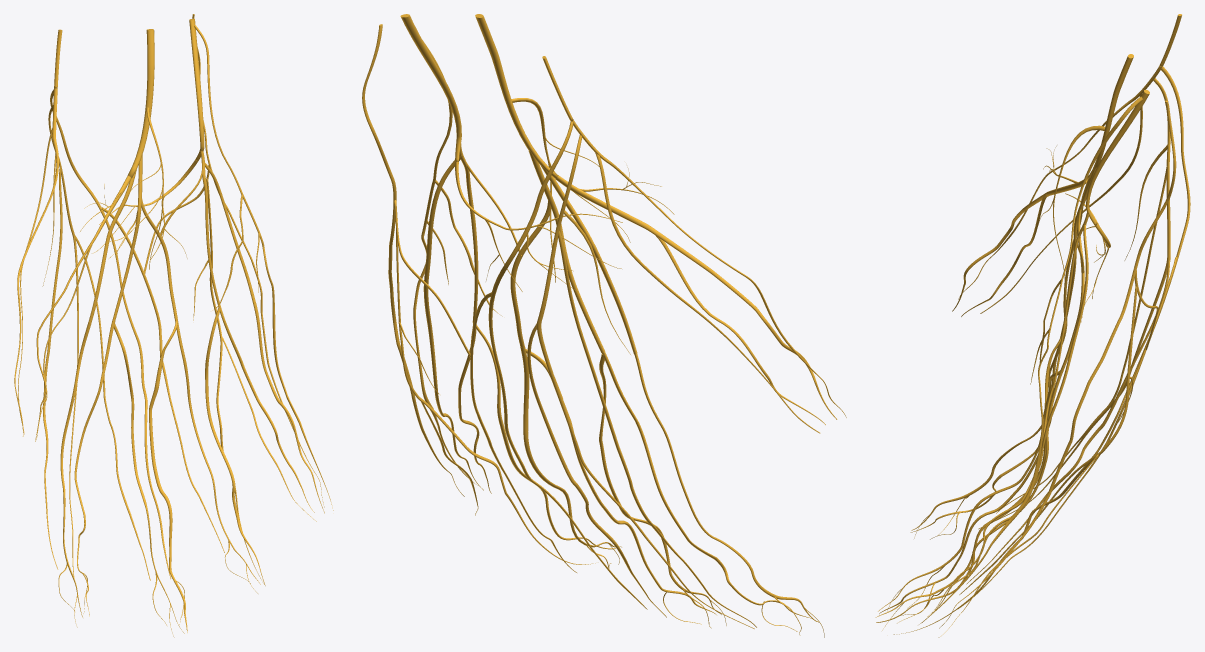
Rendered from open3d-hand-nervous-01.glb.
3 renders of one model, left to right at view 1: azimuth 30°, elevation 25°; view 2: azimuth 150°, elevation 25°; view 3: azimuth 270°, elevation 25°, orthographic. The views are drawn at different scales.
Parts seen in each view (by area): view 1: O3D_2ed0fc71fc868b, O3D_aa27462bf26062, O3D_c394e34a977adf, O3D_70b23e2b429480, O3D_ca6d144fafa555, O3D_b7cd241478a67c, O3D_2bdaa99e8c452e, O3D_2a4f92ddead7f3, O3D_6574d303783f71, O3D_38e1d062acb1e0, O3D_ca359bd1ca272e, O3D_90596265d52085; view 2: O3D_2ed0fc71fc868b, O3D_aa27462bf26062, O3D_c394e34a977adf, O3D_ca6d144fafa555, O3D_70b23e2b429480, O3D_6574d303783f71, O3D_b7cd241478a67c, O3D_2bdaa99e8c452e, O3D_2a4f92ddead7f3, O3D_38e1d062acb1e0, O3D_ca359bd1ca272e; view 3: O3D_2ed0fc71fc868b, O3D_aa27462bf26062, O3D_c394e34a977adf, O3D_b7cd241478a67c, O3D_70b23e2b429480, O3D_2bdaa99e8c452e, O3D_ca6d144fafa555, O3D_6574d303783f71, O3D_38e1d062acb1e0, O3D_2a4f92ddead7f3, O3D_90596265d52085.
Boxes of the visible parts, x1=… form: O3D_2ed0fc71fc868b: x1=14, y1=88, x2=224, y2=580; O3D_aa27462bf26062: x1=58, y1=318, x2=260, y2=637; O3D_c394e34a977adf: x1=144, y1=14, x2=324, y2=584; O3D_70b23e2b429480: x1=205, y1=305, x2=324, y2=585; O3D_ca6d144fafa555: x1=88, y1=154, x2=177, y2=322; O3D_b7cd241478a67c: x1=194, y1=25, x2=333, y2=510; O3D_2bdaa99e8c452e: x1=200, y1=151, x2=256, y2=307; O3D_2a4f92ddead7f3: x1=127, y1=29, x2=154, y2=177; O3D_6574d303783f71: x1=35, y1=238, x2=94, y2=441; O3D_38e1d062acb1e0: x1=189, y1=18, x2=204, y2=161; O3D_ca359bd1ca272e: x1=92, y1=160, x2=197, y2=259; O3D_90596265d52085: x1=116, y1=107, x2=163, y2=269; O3D_2ed0fc71fc868b: x1=470, y1=119, x2=846, y2=628; O3D_aa27462bf26062: x1=520, y1=346, x2=824, y2=637; O3D_c394e34a977adf: x1=362, y1=24, x2=595, y2=564; O3D_ca6d144fafa555: x1=510, y1=150, x2=637, y2=354; O3D_70b23e2b429480: x1=427, y1=321, x2=615, y2=549; O3D_6574d303783f71: x1=648, y1=226, x2=837, y2=424; O3D_b7cd241478a67c: x1=413, y1=41, x2=502, y2=484; O3D_2bdaa99e8c452e: x1=423, y1=143, x2=478, y2=322; O3D_2a4f92ddead7f3: x1=475, y1=14, x2=558, y2=178; O3D_38e1d062acb1e0: x1=400, y1=14, x2=461, y2=161; O3D_ca359bd1ca272e: x1=455, y1=161, x2=622, y2=292; O3D_2ed0fc71fc868b: x1=958, y1=66, x2=1190, y2=608; O3D_aa27462bf26062: x1=875, y1=301, x2=1067, y2=630; O3D_c394e34a977adf: x1=893, y1=100, x2=1176, y2=637; O3D_b7cd241478a67c: x1=919, y1=96, x2=1142, y2=624; O3D_70b23e2b429480: x1=876, y1=383, x2=1055, y2=622; O3D_2bdaa99e8c452e: x1=1050, y1=212, x2=1088, y2=416; O3D_ca6d144fafa555: x1=1061, y1=167, x2=1096, y2=369; O3D_6574d303783f71: x1=952, y1=192, x2=1048, y2=316; O3D_38e1d062acb1e0: x1=1086, y1=89, x2=1149, y2=225; O3D_2a4f92ddead7f3: x1=1086, y1=54, x2=1133, y2=182; O3D_90596265d52085: x1=1037, y1=125, x2=1105, y2=289.
Size of the model in its own units: 0.1089 by 0.1808 by 0.0853.
